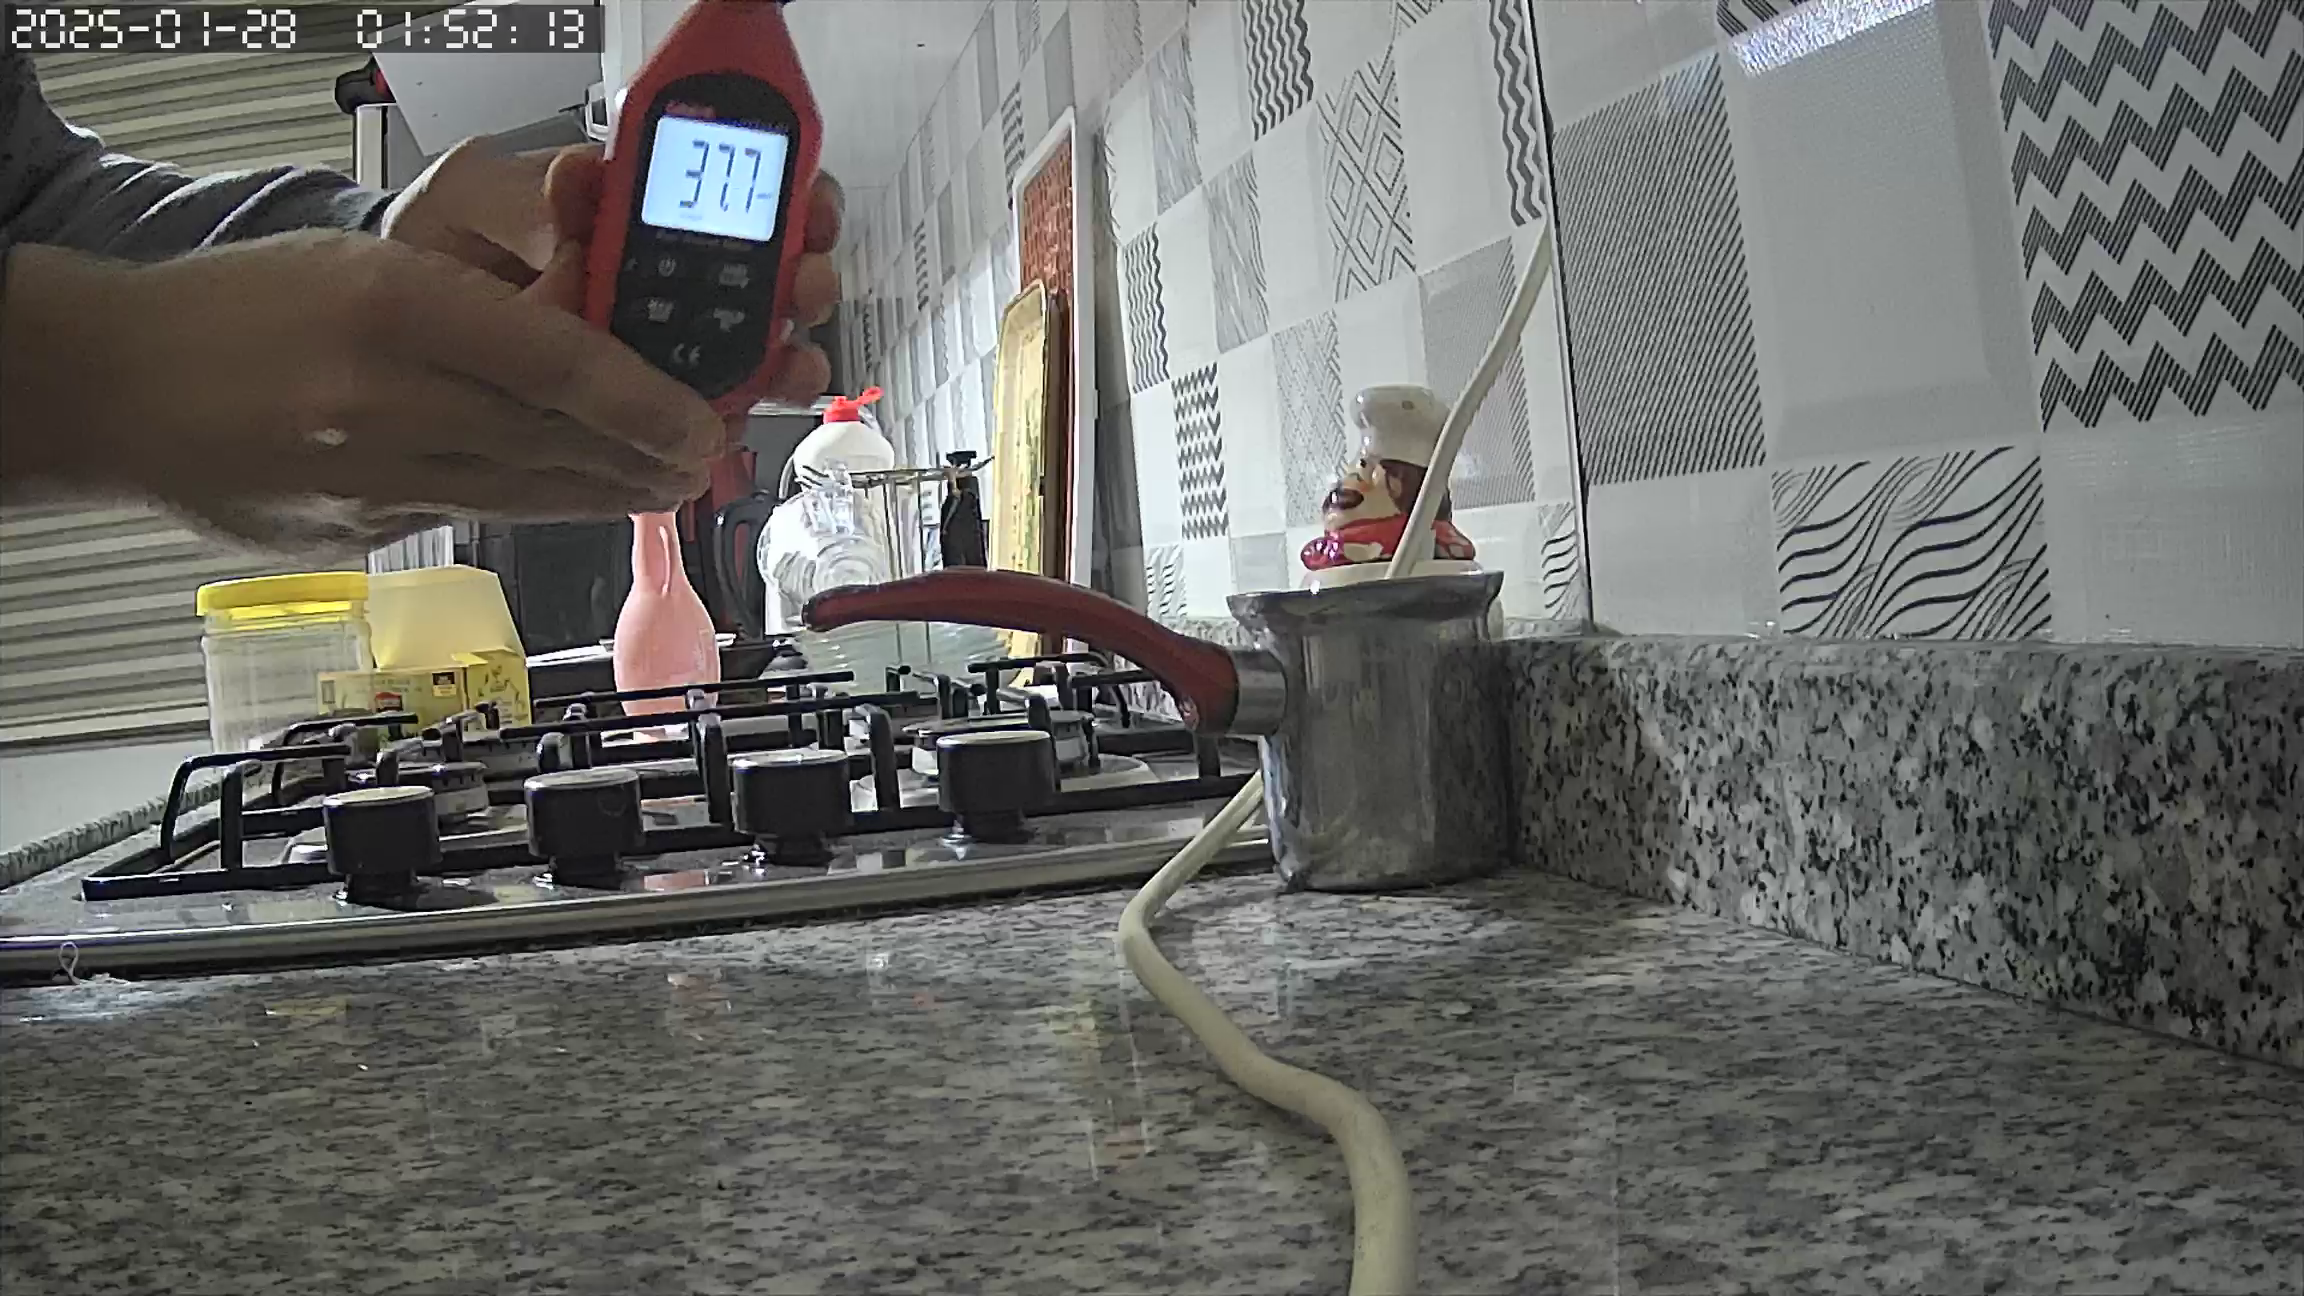screen: (639, 116, 790, 245)
